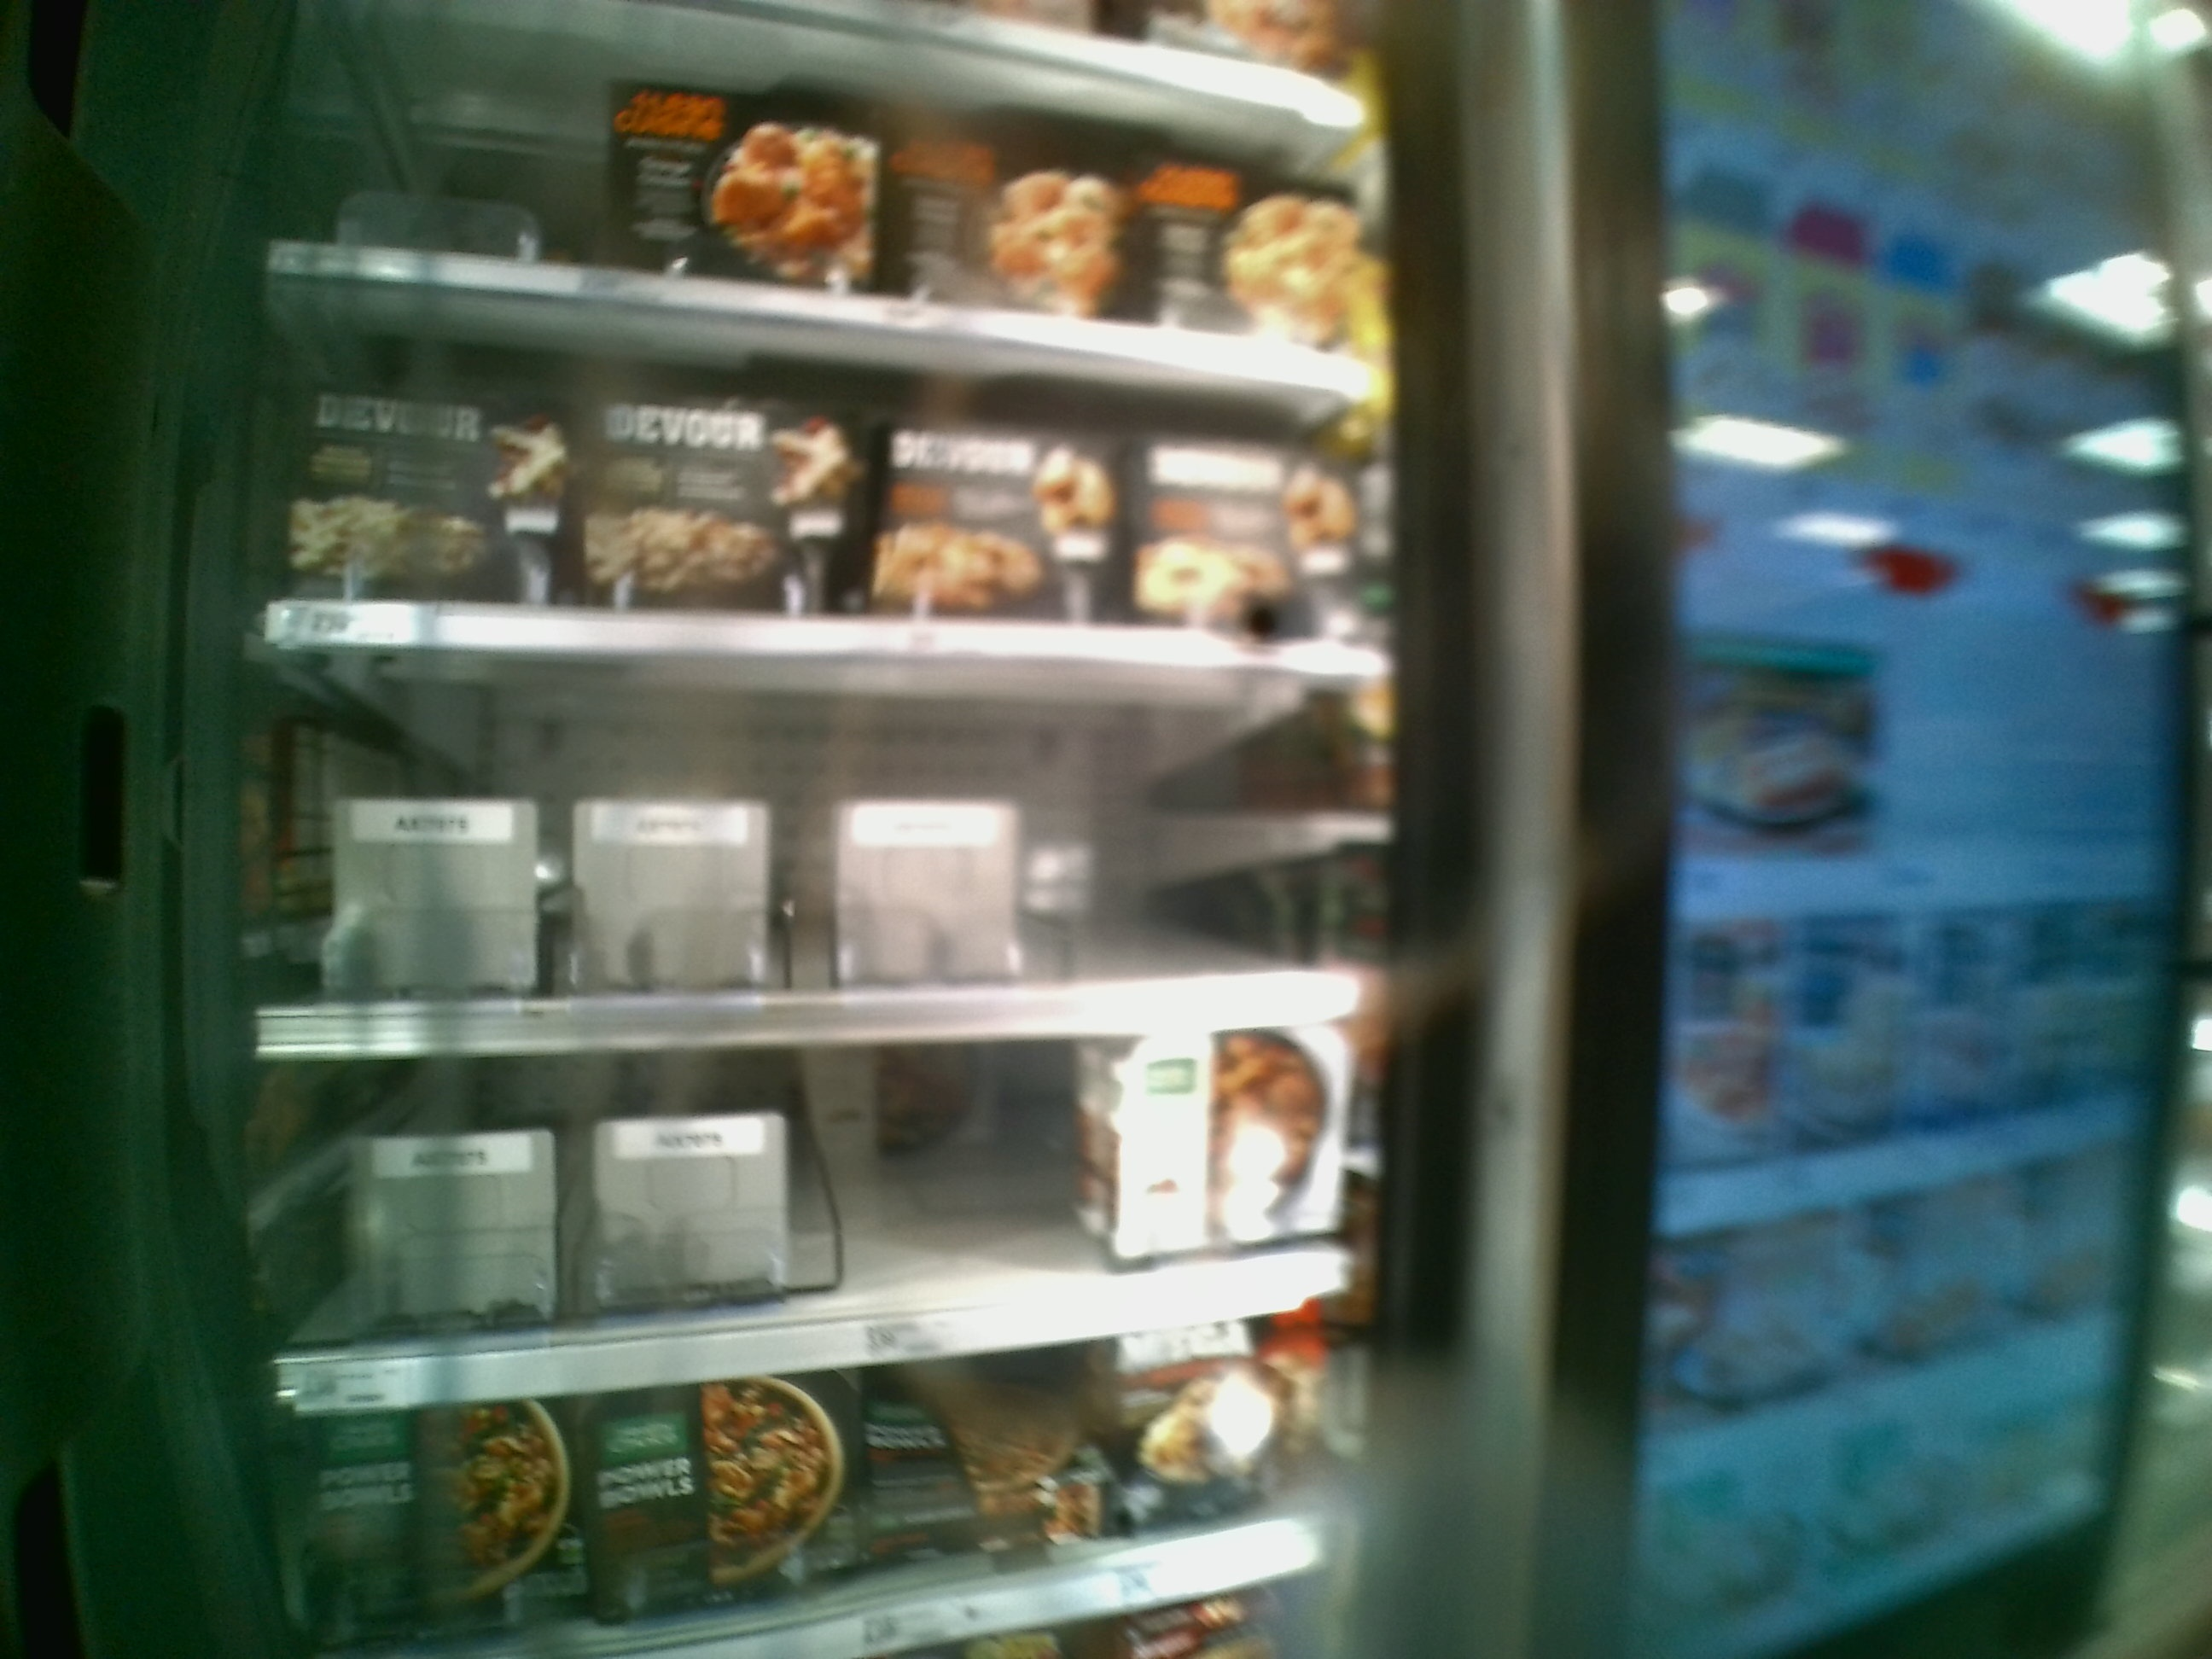Shelf: (251, 643, 1399, 1040), (270, 288, 1383, 673), (244, 1037, 1388, 1410)
